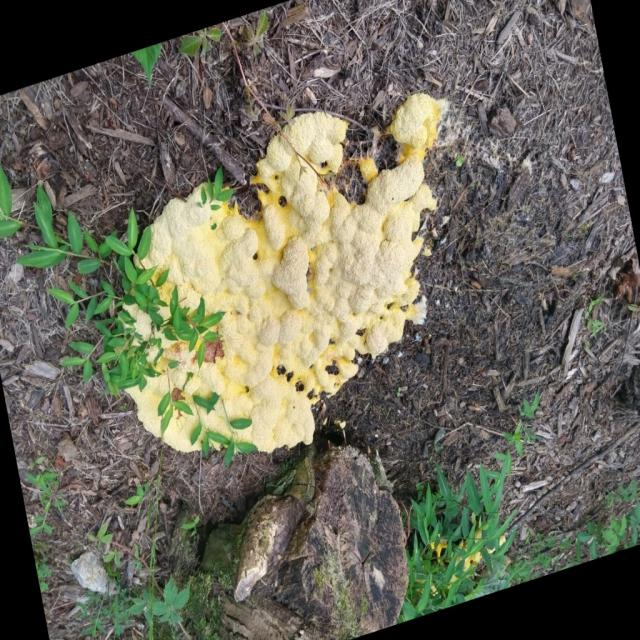Dog_vomit_slime_mold: (110, 139, 484, 452)
